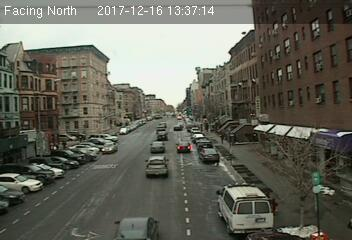car: (145, 156, 169, 177), (200, 148, 219, 162), (100, 141, 119, 154), (149, 140, 165, 154), (177, 142, 191, 153), (156, 130, 168, 141), (173, 124, 183, 131)
police: (216, 181, 274, 232)
